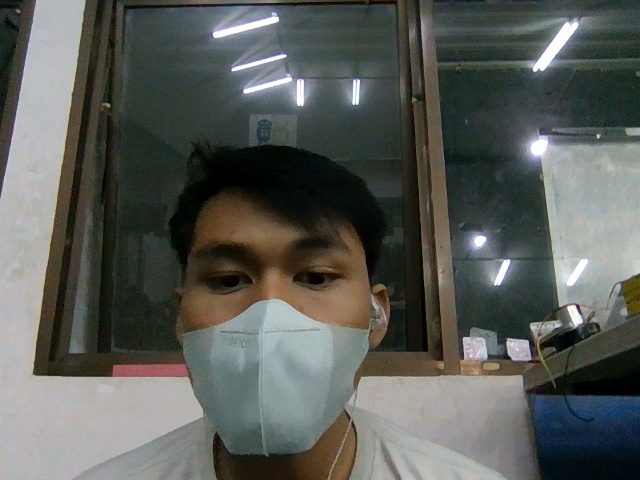mask_on: (182, 300, 369, 455)
